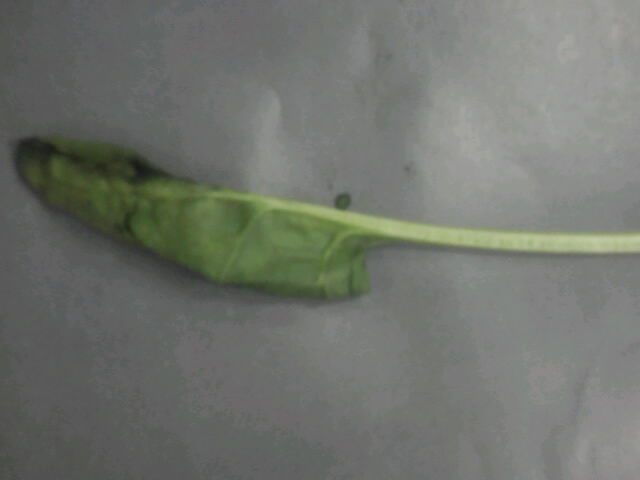yellow: (28, 99, 561, 332)
